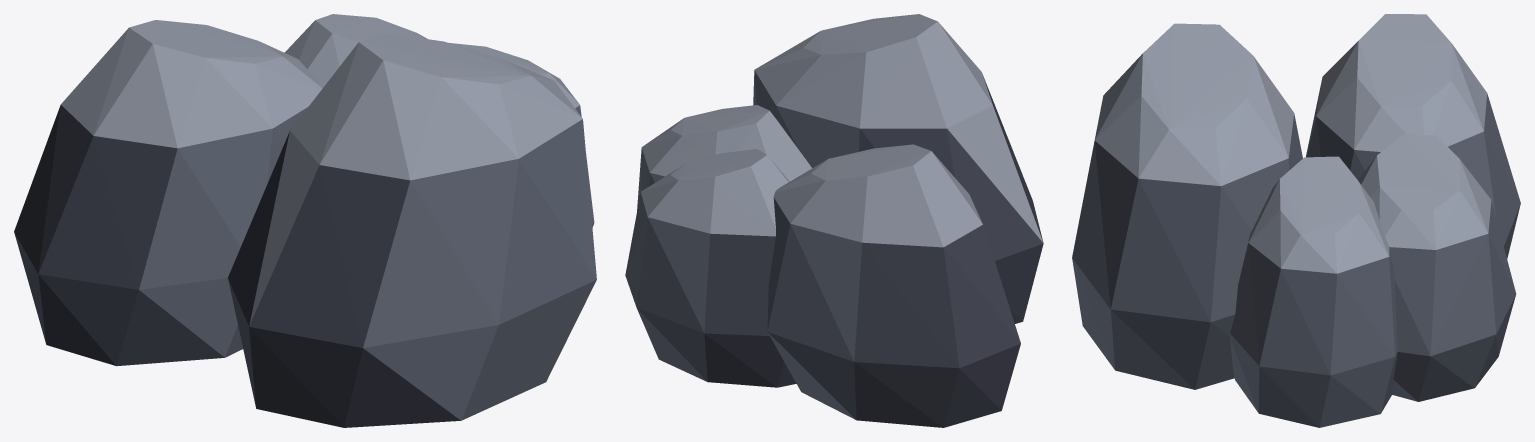
Rendered from TW_ROCK_CLUSTER_SMALL_B_LOD0.glb.
The picture shows the model from 3 angles, left to right: view 1: azimuth 30°, elevation 25°; view 2: azimuth 150°, elevation 25°; view 3: azimuth 270°, elevation 25°; orthographic projection. The views are drawn at different scales.
Visible parts, largest first — view 1: TW_ROCK_CLUSTER_SMALL_B_LOD0; view 2: TW_ROCK_CLUSTER_SMALL_B_LOD0; view 3: TW_ROCK_CLUSTER_SMALL_B_LOD0.
Part boxes in pixels (x1=…): TW_ROCK_CLUSTER_SMALL_B_LOD0: x1=14, y1=14, x2=596, y2=427; TW_ROCK_CLUSTER_SMALL_B_LOD0: x1=625, y1=14, x2=1043, y2=427; TW_ROCK_CLUSTER_SMALL_B_LOD0: x1=1072, y1=14, x2=1520, y2=427.
Bounding box in the file's own units: 1.4 × 0.8749 × 1.22.
Materials: 1 (1 with a texture image).
